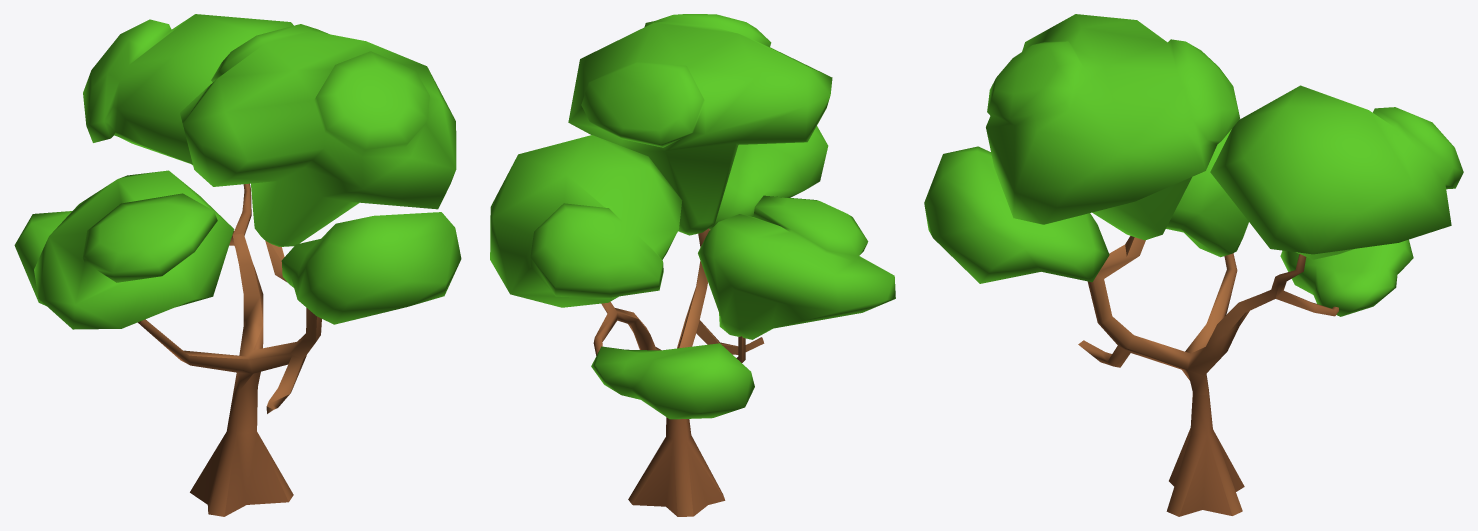
File: Tree_02.fbx
3 views of the same model, side by side, from view 1: azimuth 30°, elevation 25°; view 2: azimuth 150°, elevation 25°; view 3: azimuth 270°, elevation 25° (orthographic). The views are drawn at different scales.
Visible parts, largest first — view 1: Tree_02; view 2: Tree_02; view 3: Tree_02.
Part boxes in pixels (bbox=[...]): Tree_02: bbox=[14, 14, 461, 516]; Tree_02: bbox=[490, 14, 895, 516]; Tree_02: bbox=[924, 14, 1463, 516].
Size of the model in its own units: 3.26 by 4.04 by 4.22.
Materials: 1 (1 with a texture image).
